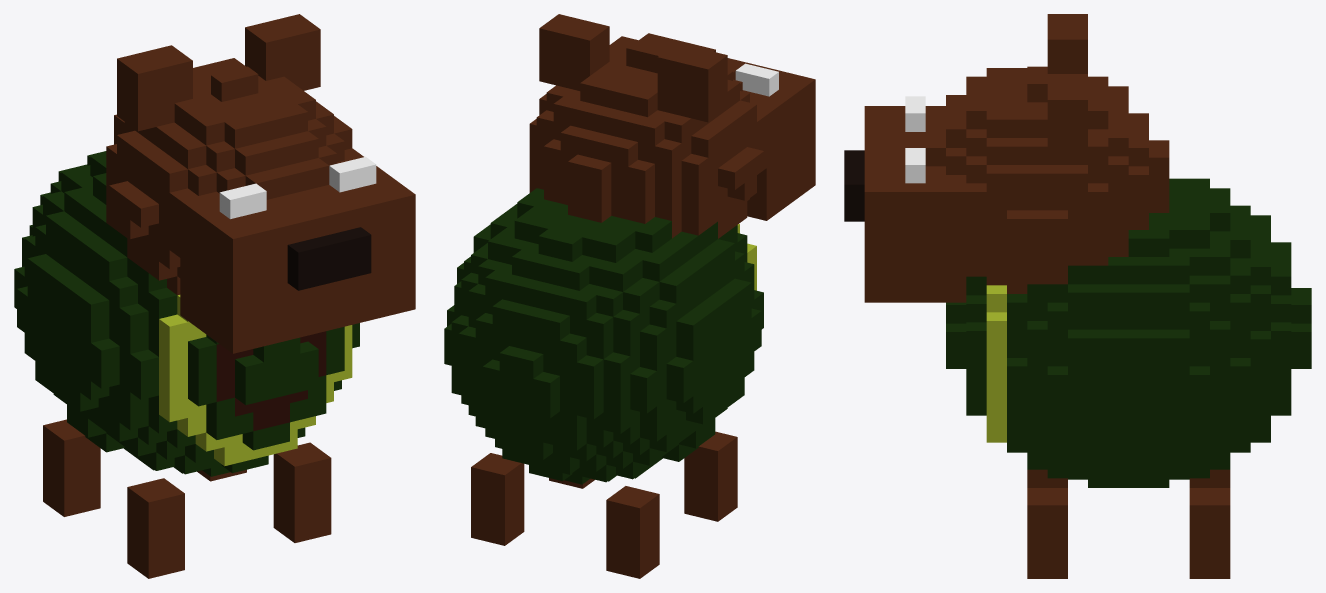
The model's file is pipi_avocado.glb.
3 views of the same model, side by side, from view 1: azimuth 30°, elevation 25°; view 2: azimuth 150°, elevation 25°; view 3: azimuth 270°, elevation 25° (orthographic). The views are drawn at different scales.
Parts seen in each view (by area): view 1: brainrot; view 2: brainrot; view 3: brainrot.
Boxes of the visible parts, left/top/right/bottom form: brainrot: left=14, top=14, right=415, bottom=578; brainrot: left=444, top=14, right=815, bottom=578; brainrot: left=844, top=14, right=1311, bottom=578.
Size of the model in its own units: 2.69 by 5 by 4.42.
1 material, 1 textured.
